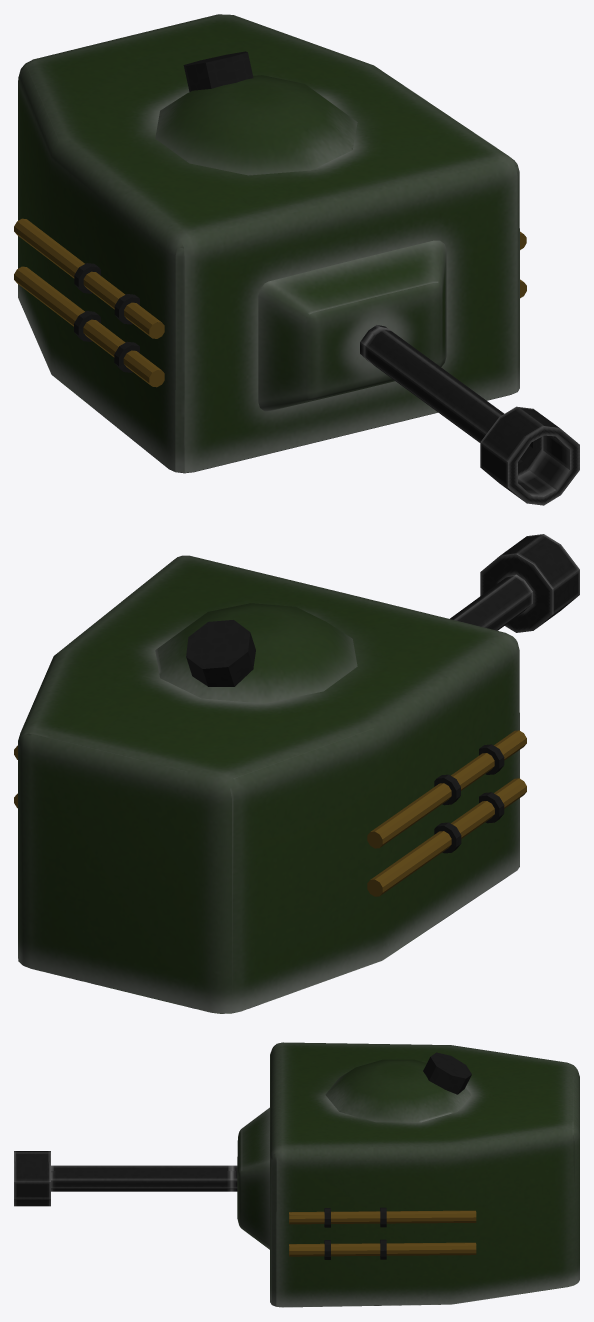
File: tank_turret.glb
3 renders of one model, top to bottom at view 1: azimuth 30°, elevation 25°; view 2: azimuth 150°, elevation 25°; view 3: azimuth 270°, elevation 25°, orthographic. The views are drawn at different scales.
Parts seen in each view (by area): view 1: Tank.004, Tank.005, Tank.007, Tank.006, Tank.027, Tank.026, Tank.023; view 2: Tank.004, Tank.007, Tank.006, Tank.027, Tank.026, Tank.023; view 3: Tank.004, Tank.006, Tank.007, Tank.005, Tank.025, Tank.024, Tank.023.
Boxes of the visible parts, x1,y1,x2,y2 form: Tank.004: (18, 14, 519, 472); Tank.005: (258, 240, 446, 411); Tank.007: (155, 75, 357, 175); Tank.006: (360, 325, 579, 505); Tank.027: (14, 266, 164, 387); Tank.026: (14, 218, 164, 338); Tank.023: (183, 51, 253, 91); Tank.004: (18, 555, 519, 1013); Tank.007: (155, 603, 357, 703); Tank.006: (450, 534, 579, 632); Tank.027: (367, 778, 526, 896); Tank.026: (367, 730, 526, 848); Tank.023: (186, 620, 255, 686); Tank.004: (270, 1042, 579, 1307); Tank.006: (14, 1151, 237, 1206); Tank.007: (325, 1059, 471, 1122); Tank.005: (237, 1107, 269, 1249); Tank.025: (289, 1239, 476, 1259); Tank.024: (289, 1207, 476, 1227); Tank.023: (423, 1052, 471, 1094).
Size of the model in its own units: 1.05 by 0.7545 by 2.
3 materials, 3 textured.
